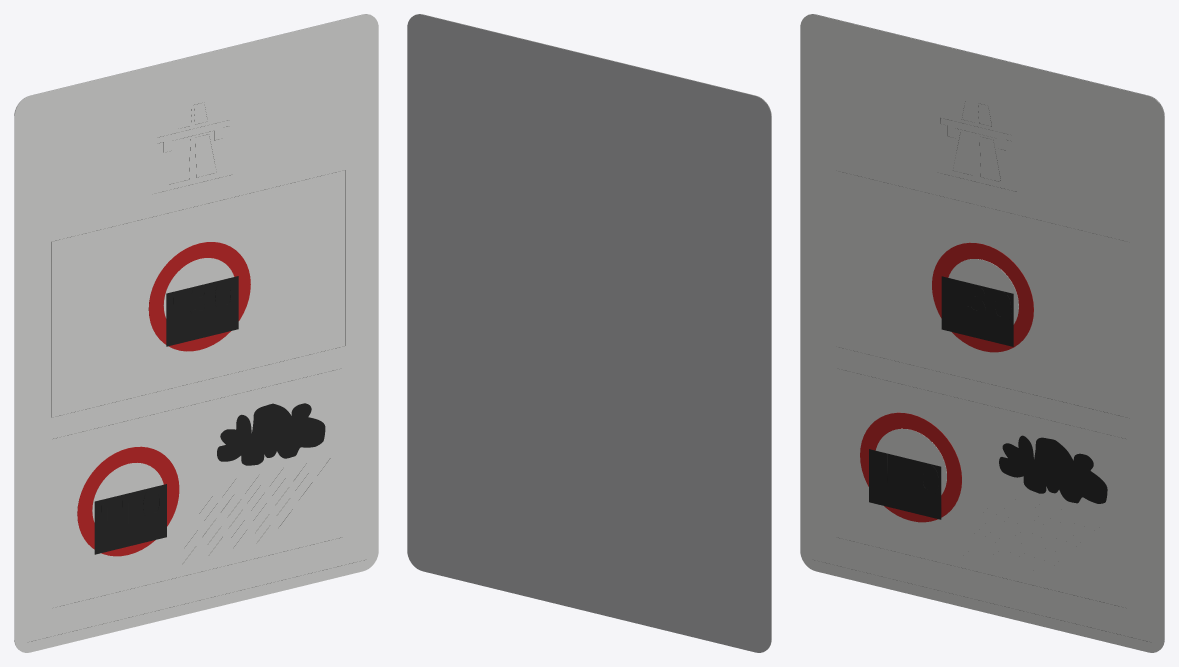
3 renders of one model, left to right at view 1: azimuth 30°, elevation 25°; view 2: azimuth 150°, elevation 25°; view 3: azimuth 330°, elevation 25°, orthographic.
Parts seen in each view (by area): view 1: C25b_p00, C25b_p14, C25b_p10, C25b_p12, C25b_p47, C25b_p43, C25b_p13, C25b_p11, C25b_dos; view 2: C25b_dos, C25b_p00; view 3: C25b_p00, C25b_p14, C25b_p10, C25b_p12, C25b_p47, C25b_p43, C25b_p13, C25b_p11, C25b_dos.
Boxes of the visible parts, left/top/right/bottom form: C25b_p00: left=14, top=14, right=378, bottom=652; C25b_p14: left=217, top=403, right=325, bottom=465; C25b_p10: left=148, top=242, right=250, bottom=351; C25b_p12: left=77, top=446, right=179, bottom=556; C25b_p47: left=94, top=484, right=166, bottom=554; C25b_p43: left=166, top=276, right=238, bottom=346; C25b_p13: left=92, top=463, right=163, bottom=522; C25b_p11: left=163, top=258, right=234, bottom=318; C25b_dos: left=14, top=14, right=370, bottom=649; C25b_dos: left=407, top=14, right=771, bottom=652; C25b_p00: left=415, top=14, right=771, bottom=649; C25b_p00: left=800, top=14, right=1164, bottom=652; C25b_p14: left=999, top=435, right=1107, bottom=503; C25b_p10: left=932, top=242, right=1033, bottom=352; C25b_p12: left=860, top=412, right=961, bottom=522; C25b_p47: left=869, top=449, right=941, bottom=519; C25b_p43: left=941, top=276, right=1013, bottom=346; C25b_p13: left=875, top=428, right=946, bottom=494; C25b_p11: left=948, top=259, right=1018, bottom=324; C25b_dos: left=808, top=14, right=1164, bottom=649.
Bounding box in the file's own units: 0.7 × 1.02 × 0.0219.
